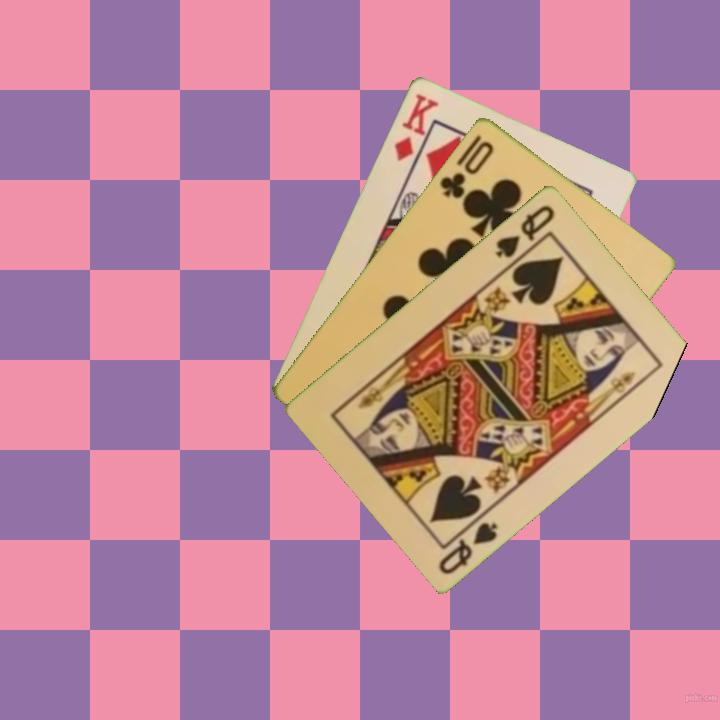10c: (436, 136, 497, 202)
Kd: (390, 89, 442, 164)
Qs: (435, 507, 501, 577), (491, 200, 558, 260)
